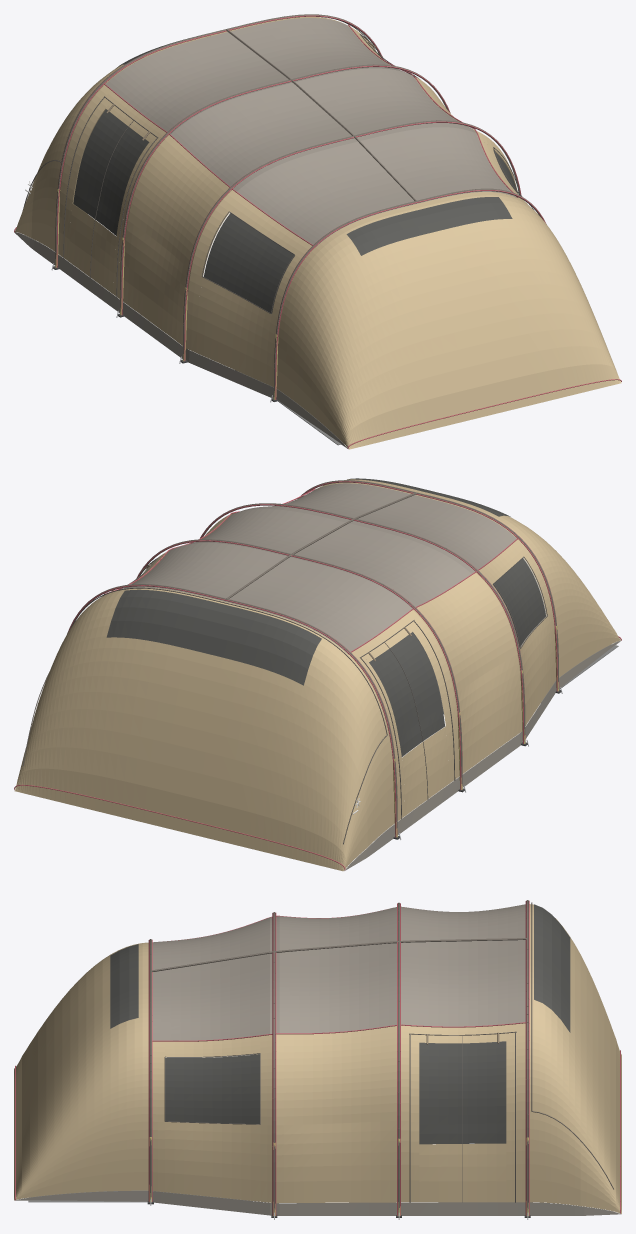
The model's file is g_elfield_v2.glb.
3 renders of one model, top to bottom at view 1: azimuth 30°, elevation 25°; view 2: azimuth 150°, elevation 25°; view 3: azimuth 270°, elevation 25°, orthographic.
Parts seen in each view (by area): view 1: door_back, roof, wall_46, wall_50, door_L_4, wall_51, door_front, door_back_1, frame_5, door_L_3, wall_47, wall_49 (+5 smaller); view 2: door_front, roof, wall_46, door_front_70, door_back, door_L_4, door_L_3, wall_51, wall_50, frame_5, door_L_1, wall_48 (+5 smaller); view 3: roof, door_back, wall_2, door_front, door_R_4, wall_5, wall_7, door_R_2, frame_4, door_front_70, wall_3, door_back_1 (+9 smaller).
Part boxes in pixels (bbox=[...]): door_back: bbox=[276, 192, 621, 449]; roof: bbox=[105, 18, 516, 247]; wall_46: bbox=[118, 132, 231, 345]; wall_50: bbox=[196, 277, 271, 383]; door_L_4: bbox=[73, 109, 149, 235]; wall_51: bbox=[203, 213, 294, 313]; door_front: bbox=[15, 16, 374, 251]; door_back_1: bbox=[346, 197, 512, 255]; frame_5: bbox=[58, 254, 273, 398]; door_L_3: bbox=[69, 204, 116, 293]; wall_47: bbox=[186, 190, 242, 352]; wall_49: bbox=[230, 198, 306, 255]; door_front: bbox=[14, 587, 394, 871]; roof: bbox=[121, 483, 516, 653]; wall_46: bbox=[407, 573, 522, 779]; door_front_70: bbox=[106, 589, 321, 685]; door_back: bbox=[315, 479, 620, 677]; door_L_4: bbox=[369, 632, 444, 756]; door_L_3: bbox=[402, 726, 448, 815]; wall_51: bbox=[492, 558, 545, 647]; wall_50: bbox=[520, 616, 552, 724]; frame_5: bbox=[395, 681, 556, 835]; door_L_1: bbox=[408, 621, 454, 783]; wall_48: bbox=[512, 539, 556, 685]; roof: bbox=[152, 904, 525, 1040]; door_back: bbox=[14, 942, 148, 1200]; wall_2: bbox=[276, 1025, 409, 1203]; door_front: bbox=[529, 904, 621, 1213]; door_R_4: bbox=[419, 1041, 506, 1144]; wall_5: bbox=[165, 1122, 260, 1201]; wall_7: bbox=[165, 1054, 259, 1124]; door_R_2: bbox=[419, 1143, 506, 1202]; frame_4: bbox=[152, 1191, 525, 1215]; door_front_70: bbox=[534, 904, 570, 1032]; wall_3: bbox=[260, 1035, 272, 1202]; door_back_1: bbox=[110, 944, 138, 1028].
Bounding box in the file's own units: 3.95 × 2.15 × 6.
